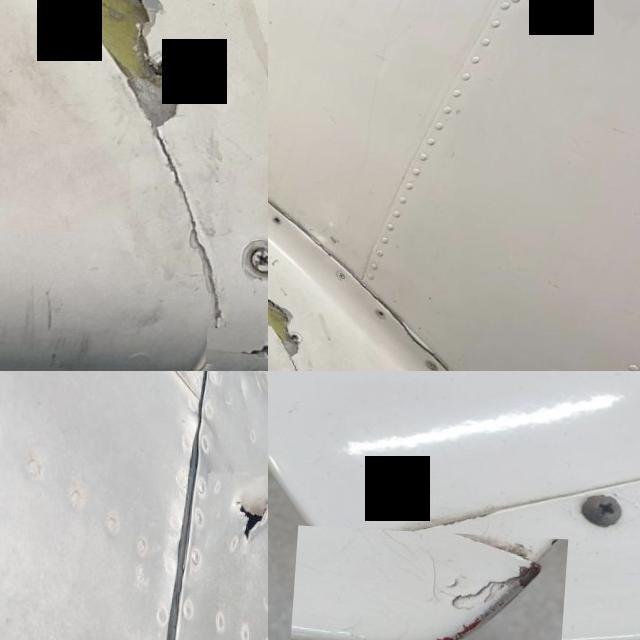Crack: (296, 522, 572, 640), (14, 0, 217, 136), (208, 470, 268, 552), (268, 291, 317, 357), (211, 325, 268, 363), (392, 314, 446, 352)
Missing_Fastener: (272, 212, 290, 224), (379, 306, 393, 319)
